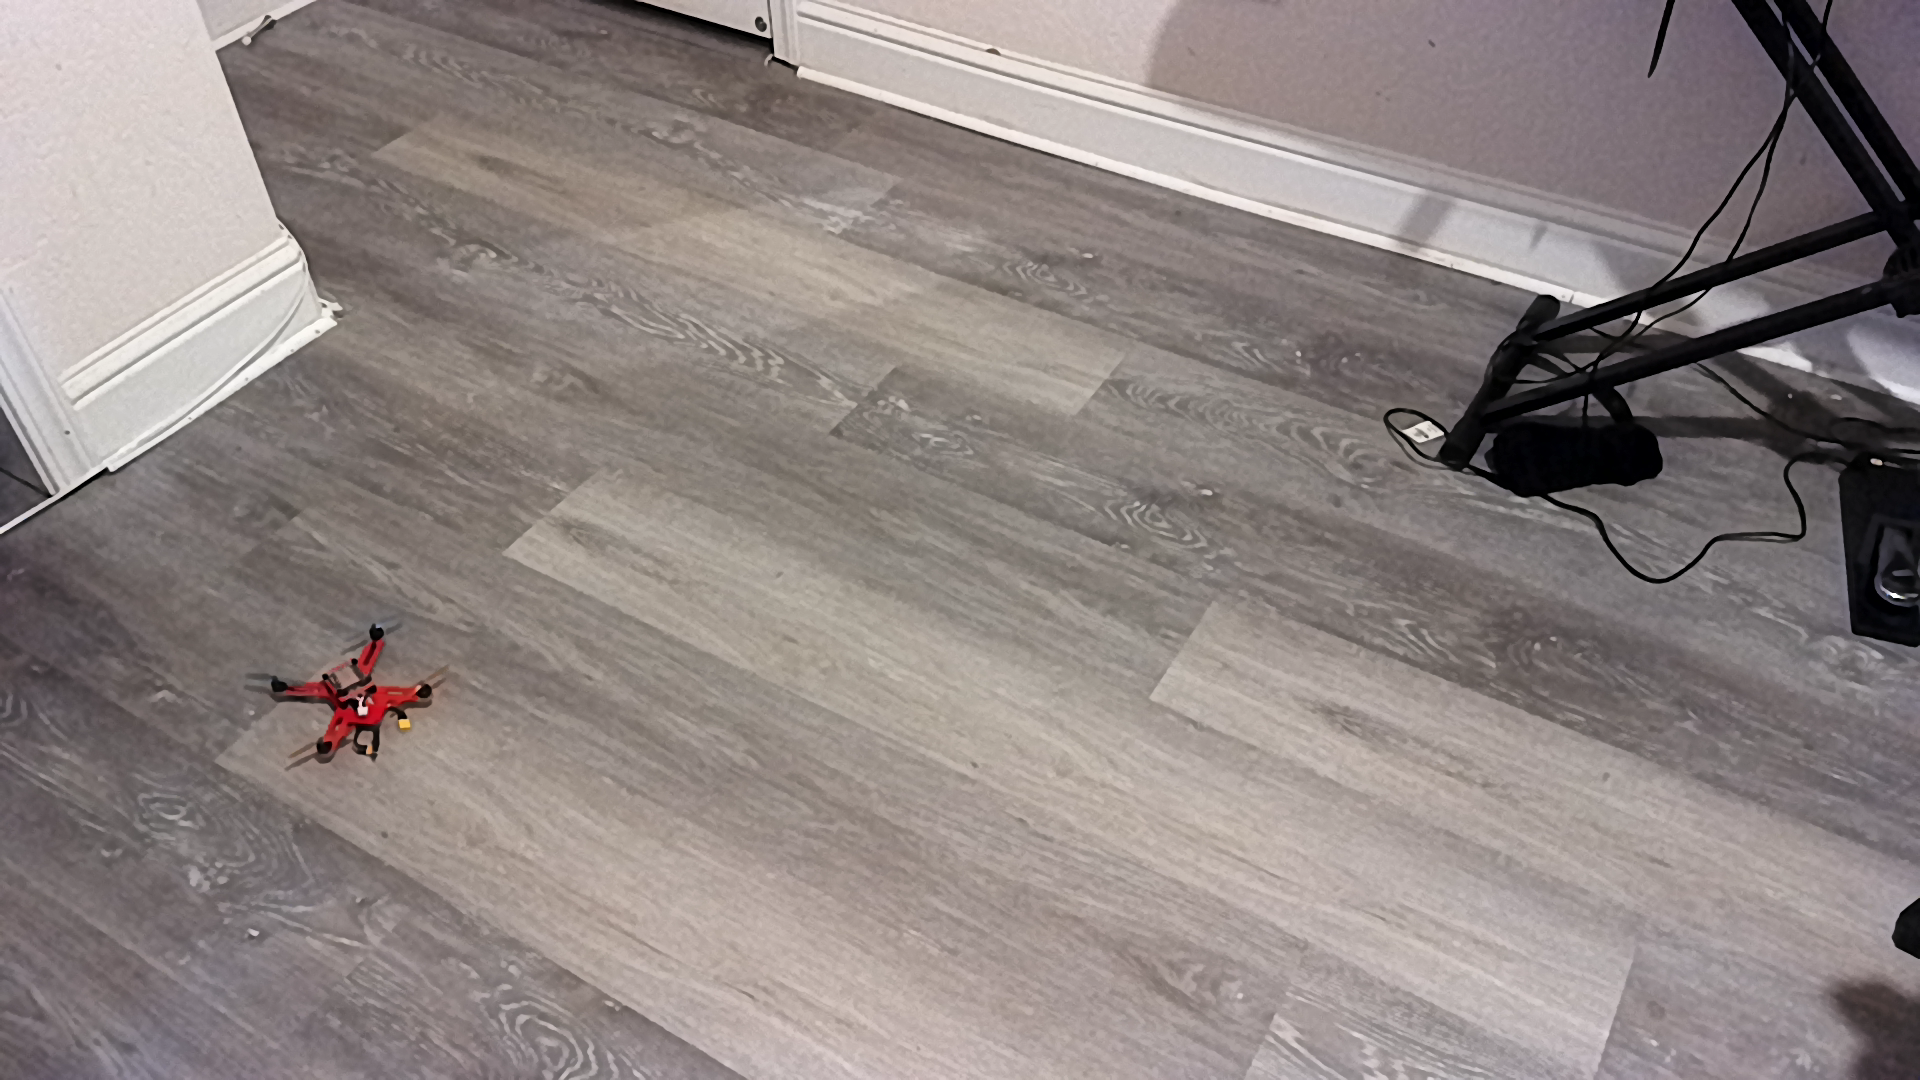drone: (239, 615, 454, 770)
